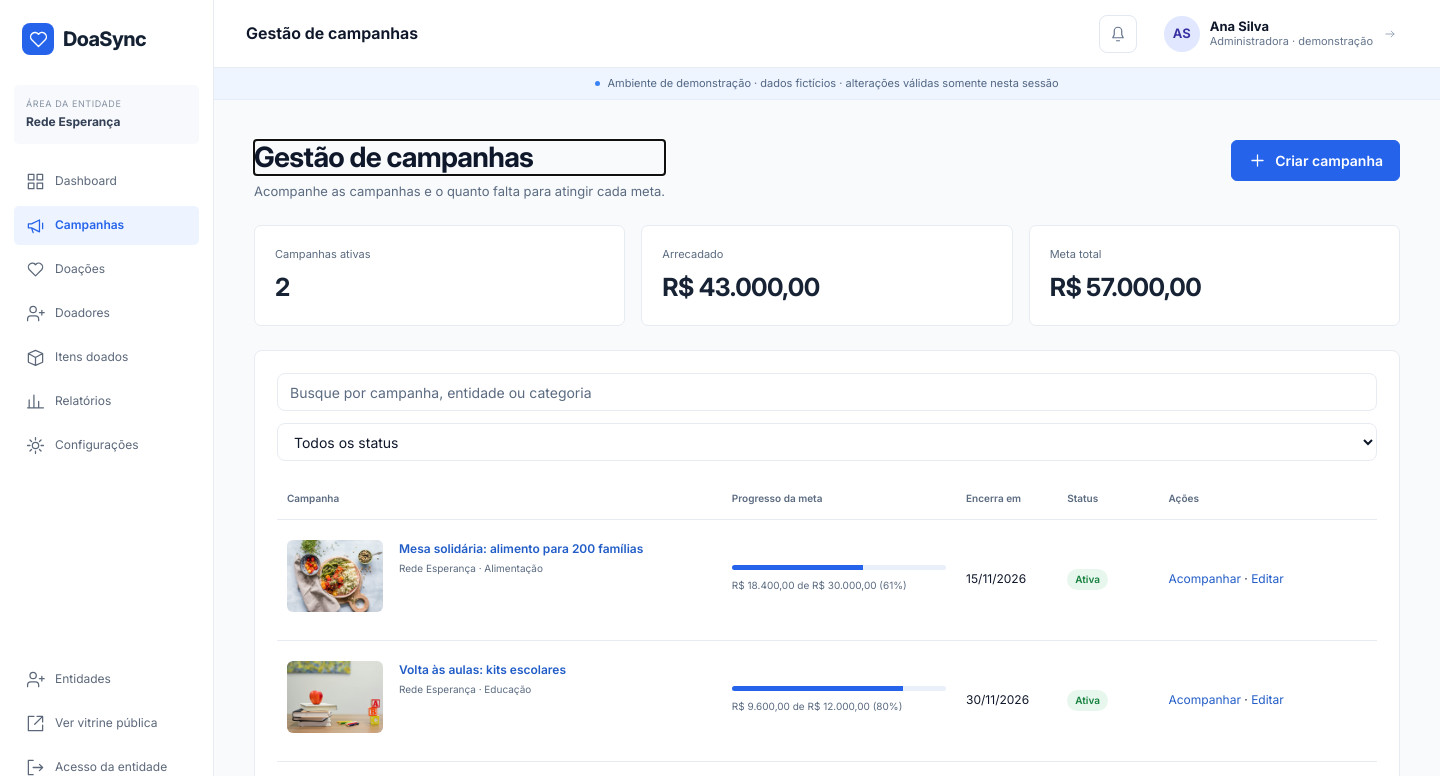
it: Gestão de campanhas (DEV-CAM-07) › mantém os indicadores quando o filtro não encontra nada
Expected: the heading "Gestão de campanhas" is shown, [254,140,533,174]
Type "zzz" into the search field labelled "Busque por campanha, entidade ou categoria" at [827, 392], box [277,373,1377,411]
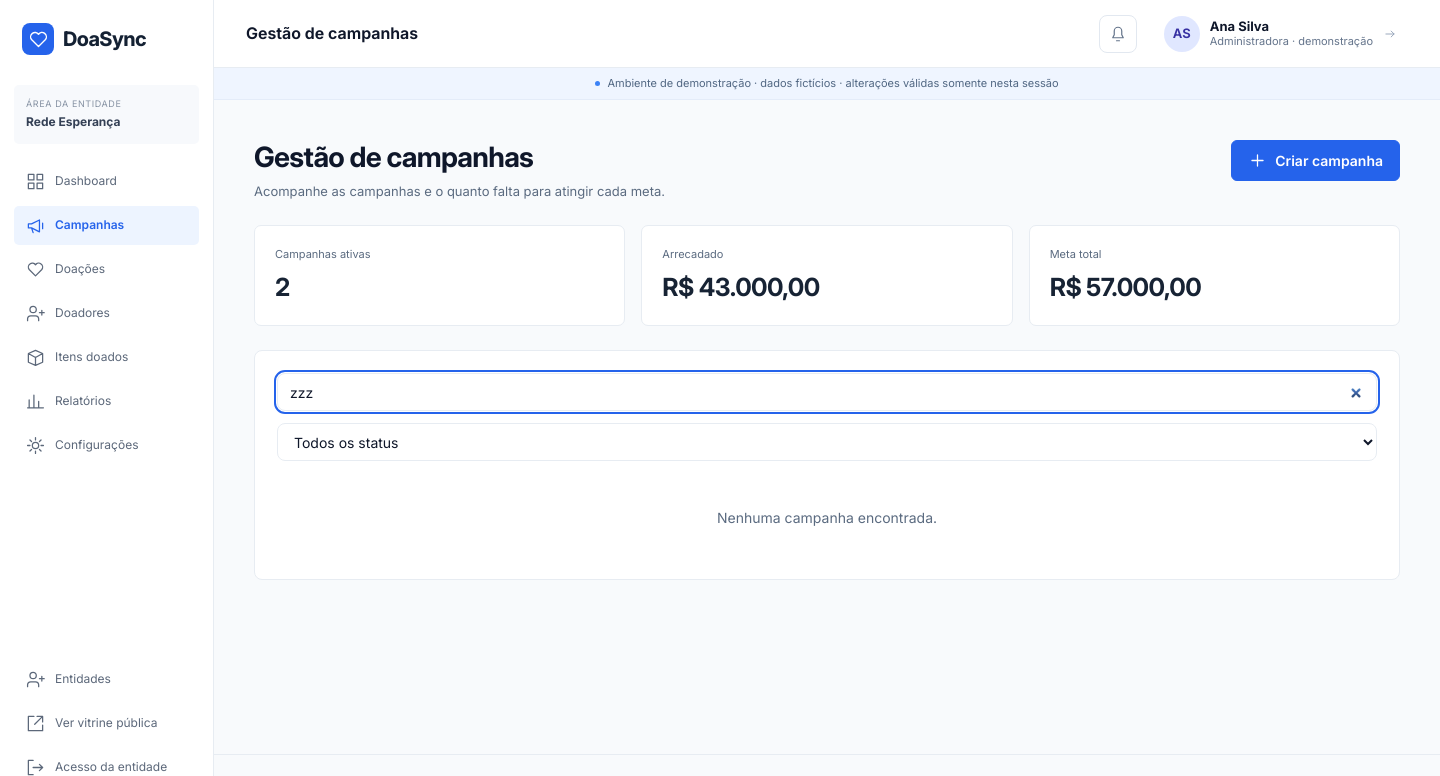
Expected: the text "Campanhas ativas" is shown, [275,247,370,261]
Now the text "Nenhuma campanha encontrada." is shown, box [717,509,937,526]
